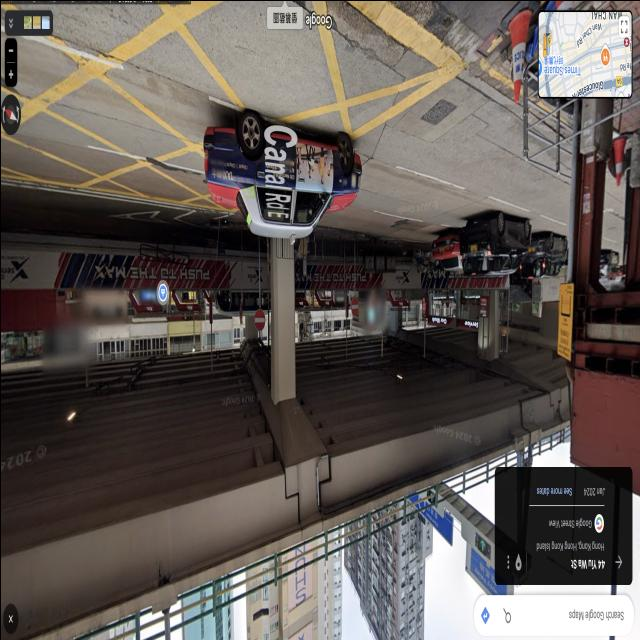Direction-Sign: (409, 490, 451, 543), (469, 549, 492, 592)
Order-Sign: (254, 309, 264, 329), (350, 296, 358, 315)
